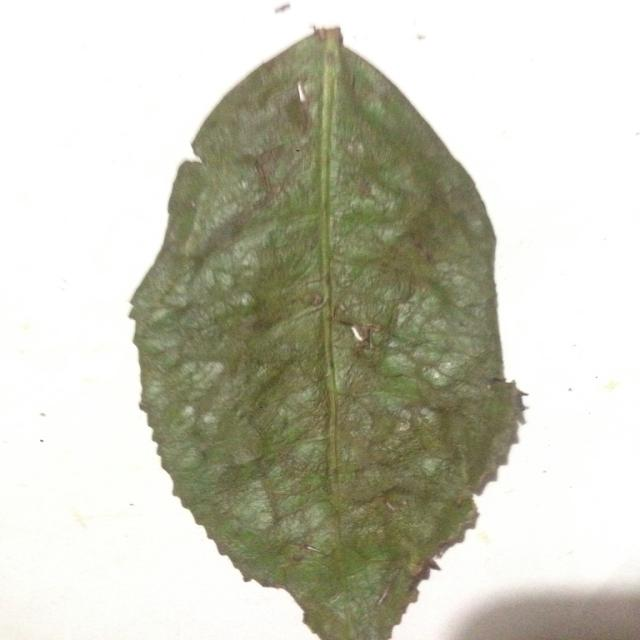Red Leaf Spot: (110, 19, 526, 640)
